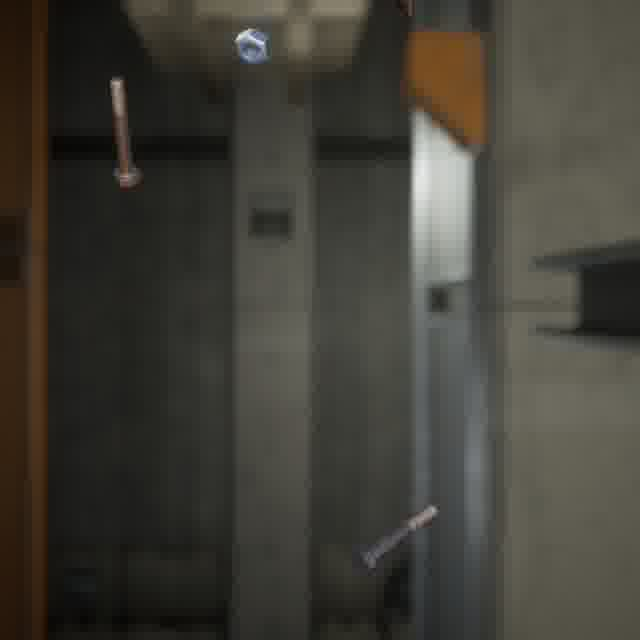bolt: (346, 499, 442, 581), (105, 72, 145, 191), (390, 0, 417, 23)
nut: (230, 23, 275, 70)
